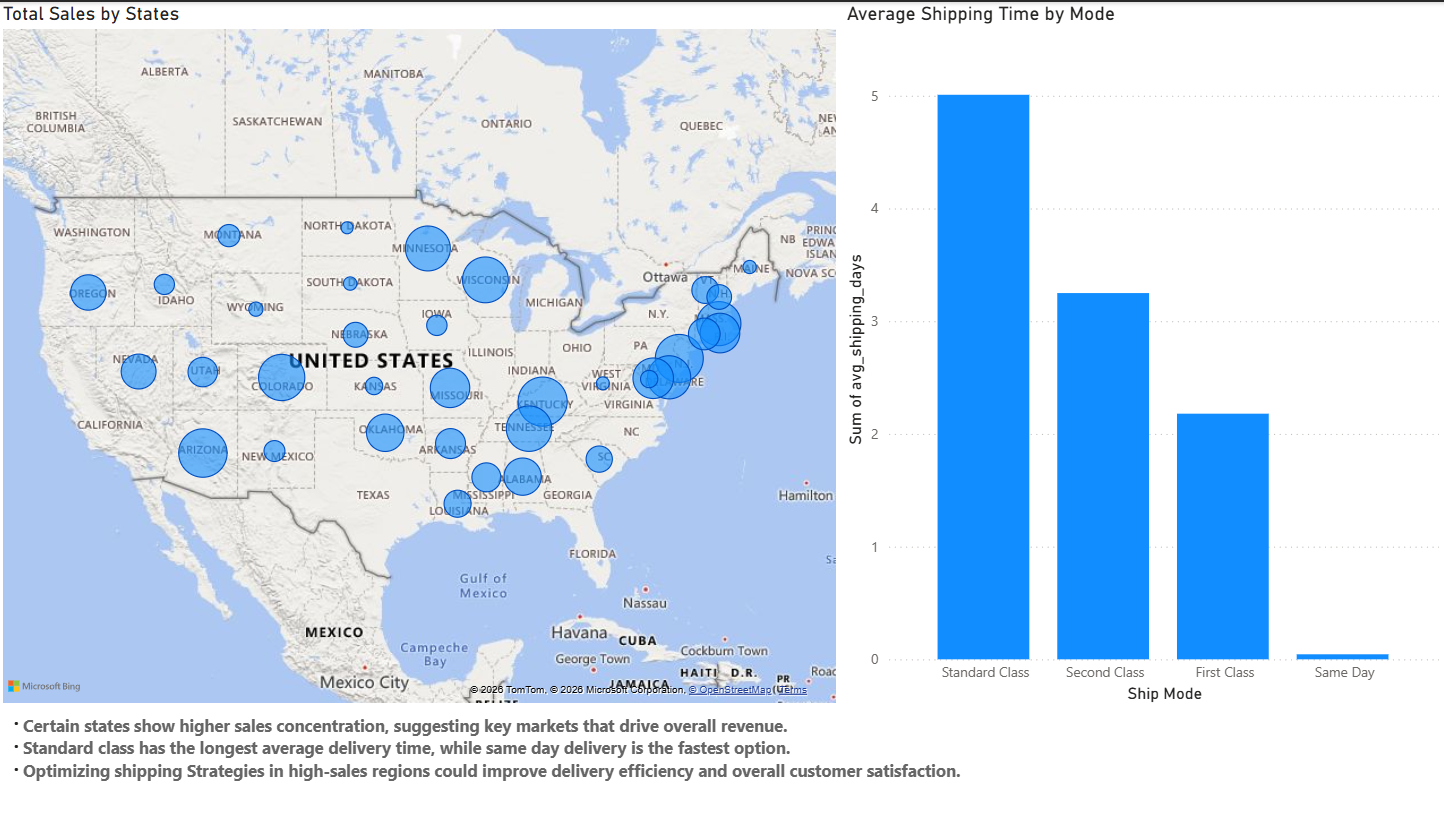

Layout of this report page (visuals, bound fields, positions):
{"tool":"powerbi","page":{"name":"Operations & Shipping Analysis","canvas":[1280,720],"ordinal":4},"visuals":[{"type":"clusteredColumnChart","title":"Average Shipping Time by Mode","fields":{"Y":["Sum(_Q6_Average_Shipping_Delay_by_Ship_Mode_Days_between_Order_Date__202604151211.avg_shipping_days)"],"Category":["_Q6_Average_Shipping_Delay_by_Ship_Mode_Days_between_Order_Date__202604151211.Ship Mode"]},"box":[745.6,0,534.4,623.7],"z":0},{"type":"map","title":"Total Sales by States","fields":{"Category":["_Q9_state_sales_202604151213.State"],"Size":["Sum(_Q9_state_sales_202604151213.total_sales)"]},"box":[0,0,745.6,623.7],"z":1000},{"type":"textbox","box":[0,623.7,1272,96.3],"z":1001}]}

Visuals, with their boxes in screenshot pixels (x1, y1, x2, y2), scaled from the page's 1280x720 canvas onto the 1444x814 screenshot:
"Average Shipping Time by Mode" clusteredColumnChart: region(841, 0, 1443, 705)
"Total Sales by States" map: region(0, 0, 841, 705)
textbox: region(0, 705, 1435, 813)
